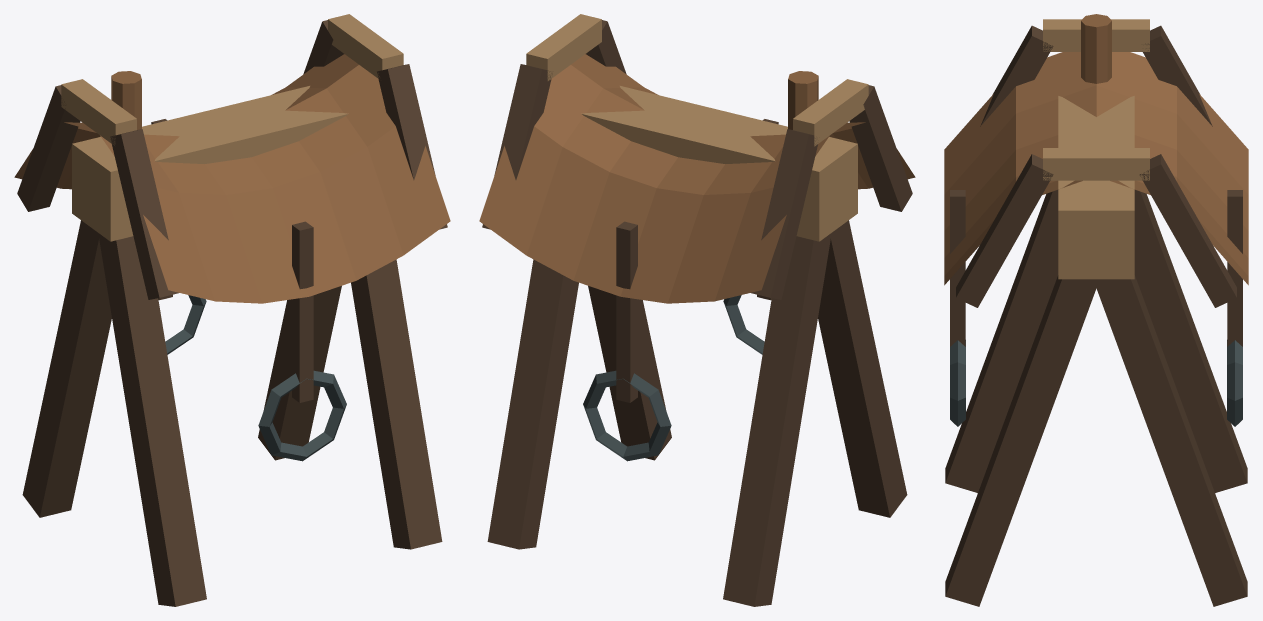
Rendered from saddle_stand.glb.
3 views of the same model, side by side, from view 1: azimuth 30°, elevation 25°; view 2: azimuth 150°, elevation 25°; view 3: azimuth 270°, elevation 25° (orthographic).
Visible parts, largest first — view 1: geometry; view 2: geometry; view 3: geometry.
Part boxes in pixels (x1,y1,x2,y2): geometry: [14, 14, 450, 606]; geometry: [479, 14, 915, 606]; geometry: [944, 14, 1248, 606].
Size of the model in its own units: 0.735 by 1.16 by 0.68.
